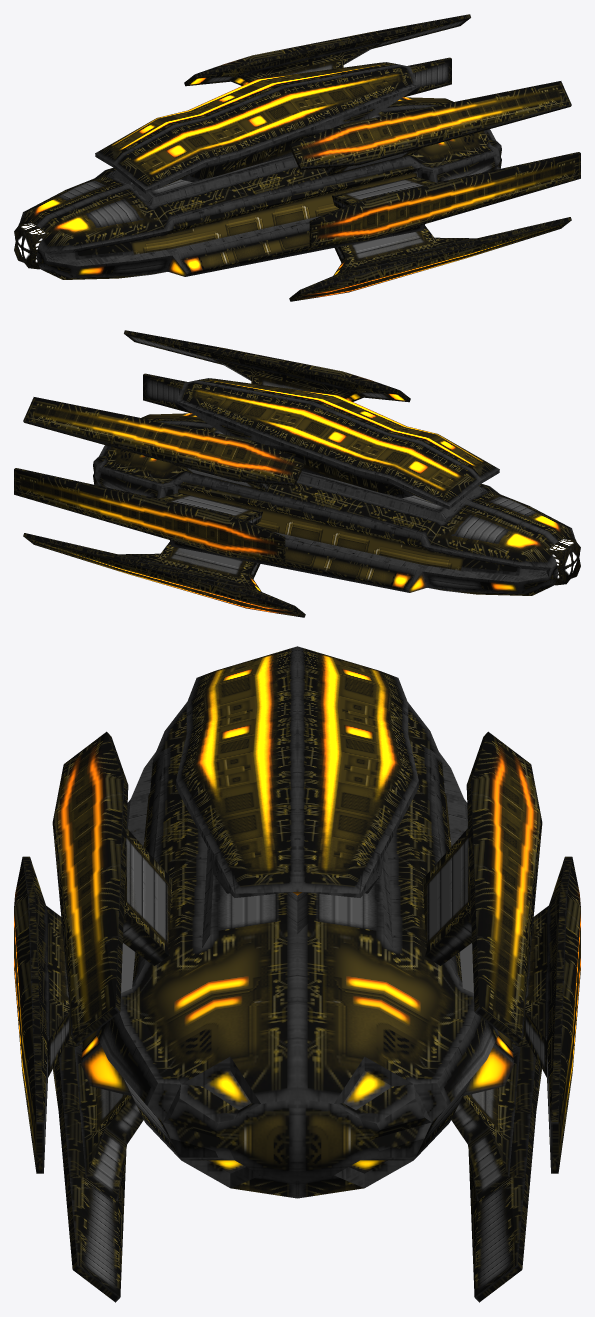
Rendered from etheriumShuttle.FBX.
The picture shows the model from 3 angles, top to bottom: view 1: azimuth 30°, elevation 25°; view 2: azimuth 150°, elevation 25°; view 3: azimuth 270°, elevation 25°; orthographic projection. The views are drawn at different scales.
Parts seen in each view (by area): view 1: EtheriumHeavyCruiser; view 2: EtheriumHeavyCruiser; view 3: EtheriumHeavyCruiser.
Boxes of the visible parts, x1,y1,x2,y2 form: EtheriumHeavyCruiser: (14, 14, 580, 301); EtheriumHeavyCruiser: (14, 330, 580, 617); EtheriumHeavyCruiser: (14, 646, 580, 1302).
Bounding box in the file's own units: 15.28 × 5.18 × 7.61.
1 material, 1 textured.
